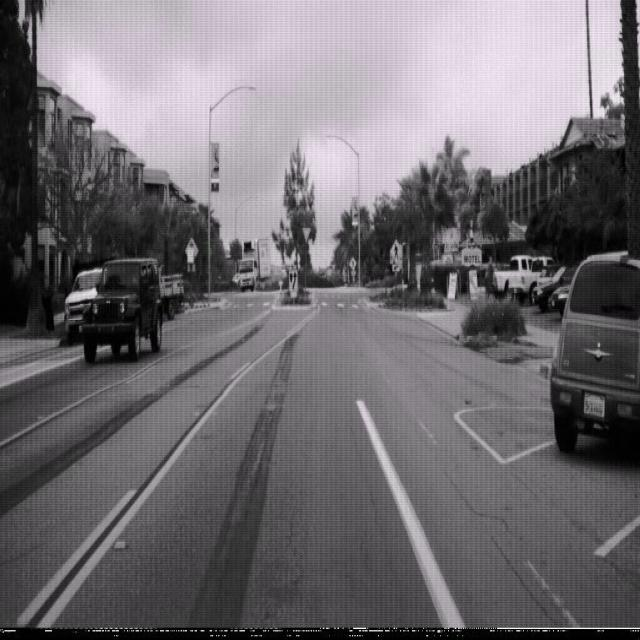pedestrianCrossing: (388, 237, 403, 266)
yield: (301, 225, 311, 242)
